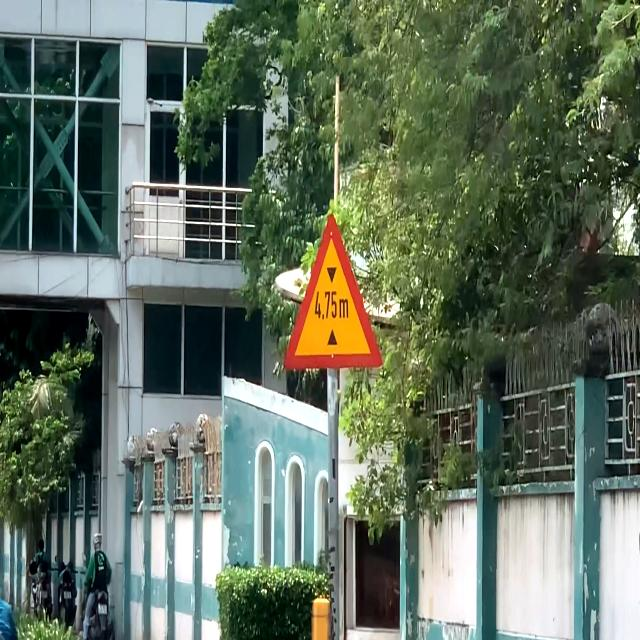S.509a: (279, 211, 387, 378)
